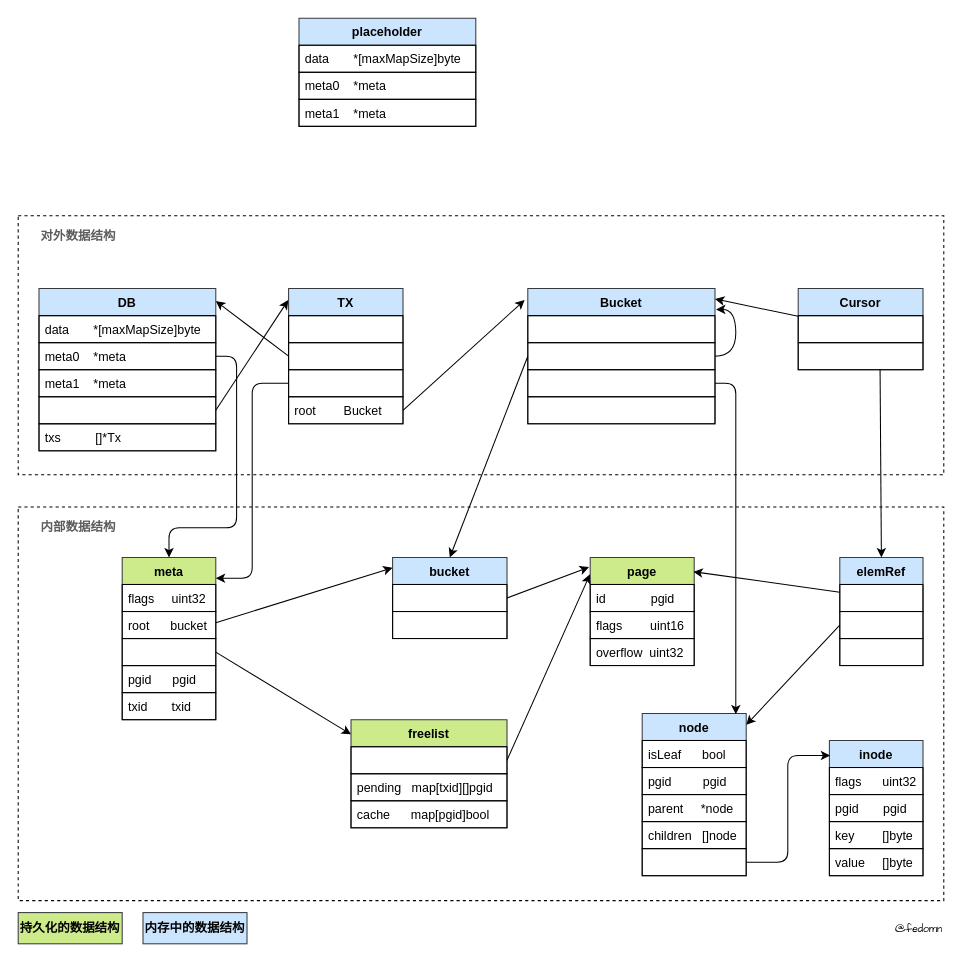
The diagram is 962 pixels wide and 962 high, and some of its shapes have lost their labels. The shapes that lost their labels are listed below. From the top down, each one's centre as x and y in pixels, then its label:
(x=345, y=329): writable bool
(x=621, y=329): tx *Tx
(x=860, y=329): bucket *Bucket
(x=345, y=356): db *DB
(x=621, y=356): buckets map[string]*Bucket
(x=860, y=356): stack []elemRef
(x=345, y=383): meta *meta
(x=621, y=383): rootNode *node
(x=127, y=410): rwtx *TX
(x=621, y=410): nodes map[pgid]*node
(x=449, y=597): root pgid
(x=881, y=597): page *page
(x=449, y=624): sequence uint64
(x=881, y=624): node *node
(x=168, y=652): freelist pgid
(x=881, y=652): index int
(x=428, y=760): ids []pgid
(x=693, y=862): inodes []inode
